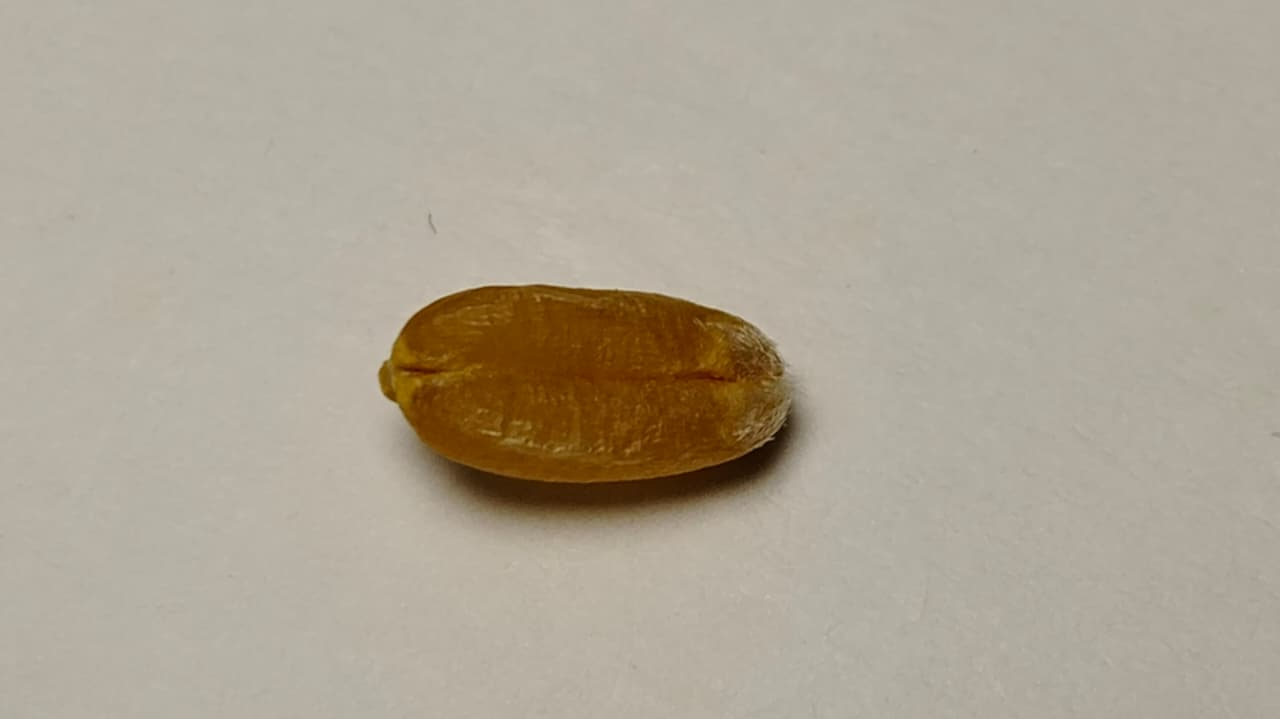healthy: (379, 285, 788, 479)
